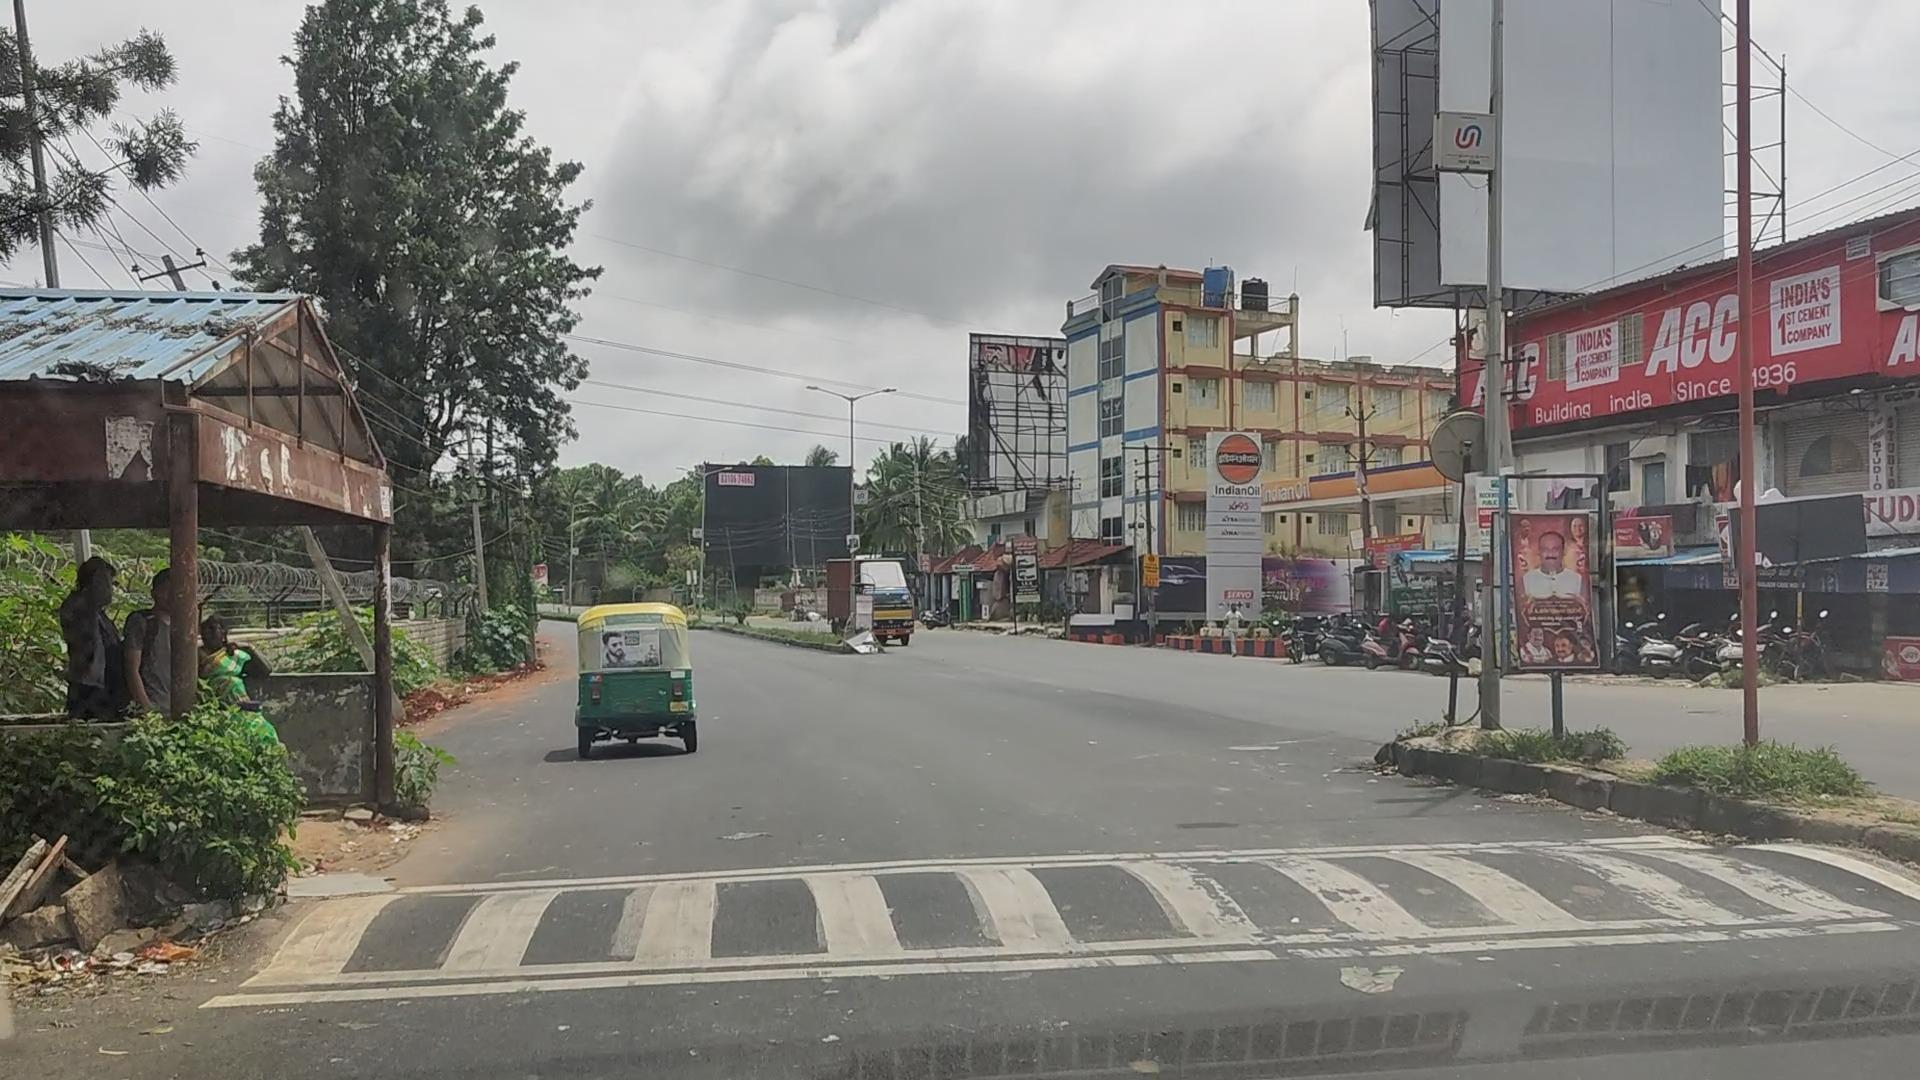LMV: (572, 603, 707, 744)
SpeedBump: (264, 825, 1883, 1005)
